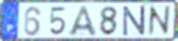5: (49, 6, 67, 36)
6: (24, 6, 43, 37)
8: (99, 6, 119, 37)
A: (67, 5, 99, 37)
N: (147, 5, 171, 38), (122, 5, 146, 37)
